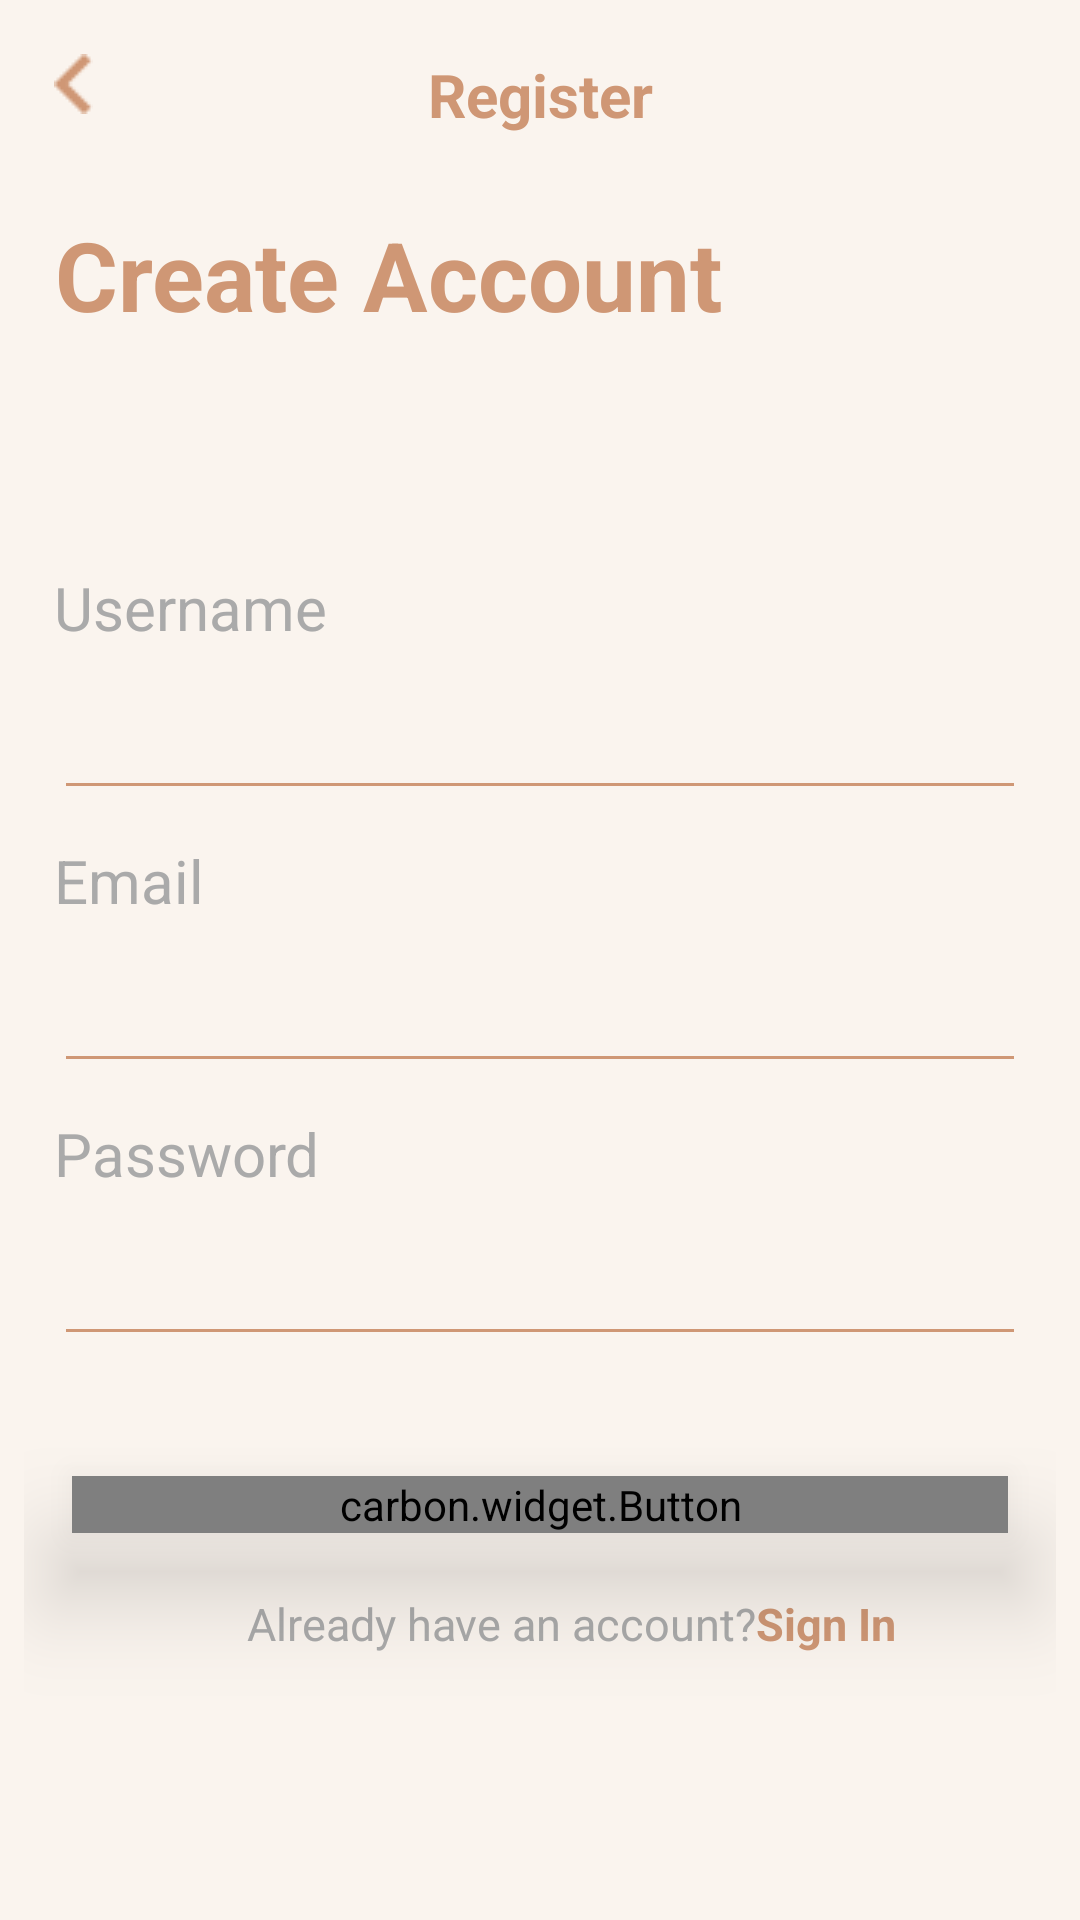

Screen size 1080px x 1920px. Icon name, then its center in pixels as point (x, y):
back: point (72, 84)
